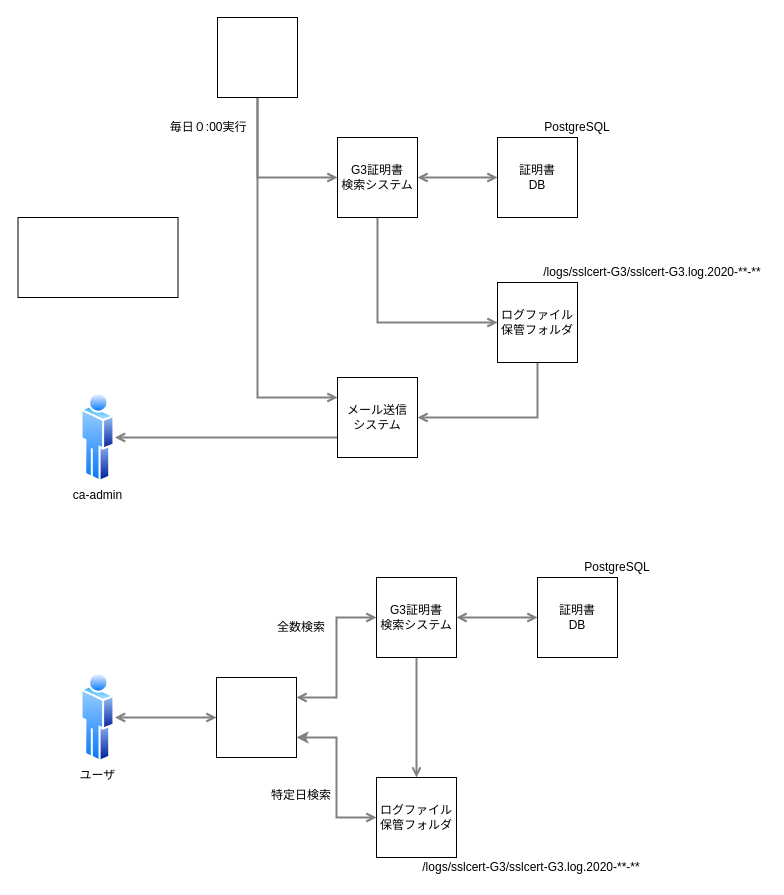
Some shapes in this 784 by 895 pixel diagram are drawn without their labels. Each missing label, with the centre of its shape:
ipアドレスやパスなど 環境の表記が必要: point 97,257
定期実行 cron: point 257,57
証明書状態 検索 Webアプリ: point 256,717
